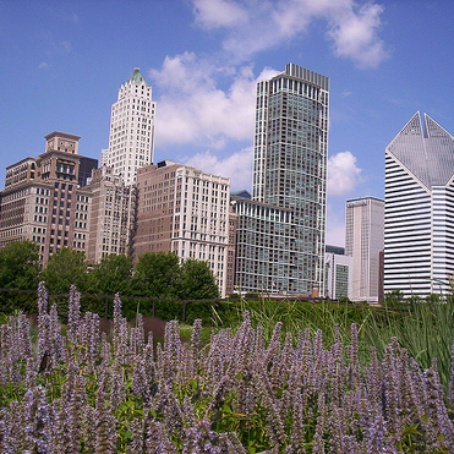building: (233, 76, 324, 302), (1, 139, 127, 260), (377, 109, 454, 303), (134, 159, 231, 292), (99, 65, 159, 179), (330, 193, 384, 305)
flowers: (16, 284, 454, 454)
sky: (5, 1, 454, 151)
